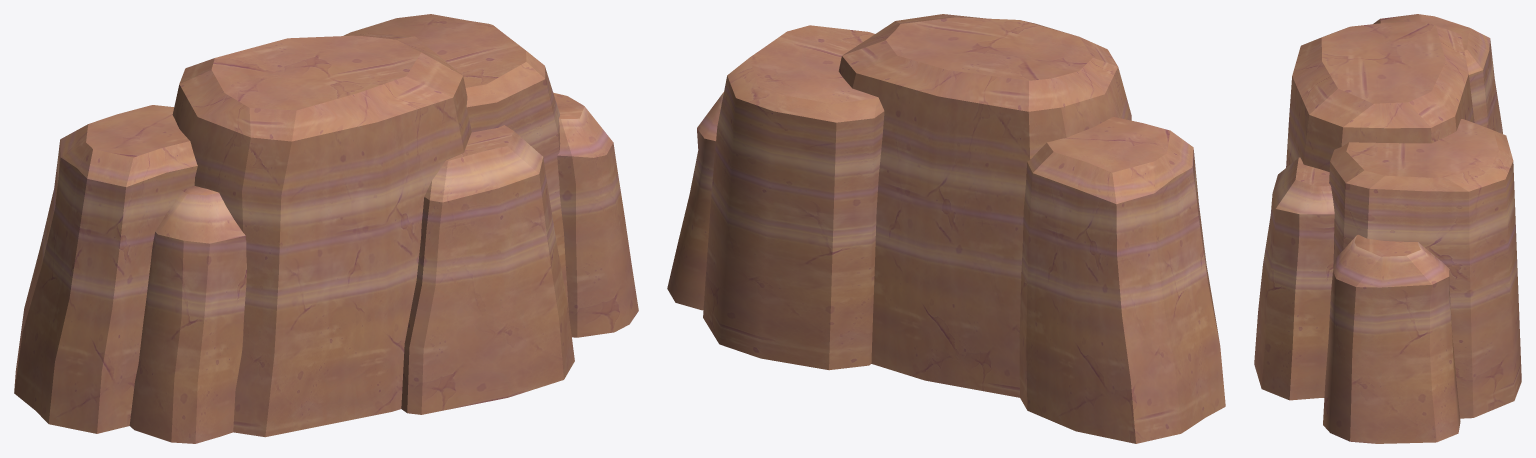
File: SM_Mesa03.fbx
3 renders of one model, left to right at view 1: azimuth 30°, elevation 25°; view 2: azimuth 150°, elevation 25°; view 3: azimuth 270°, elevation 25°, orthographic. The views are drawn at different scales.
Visible parts, largest first — view 1: SM_Mesa03; view 2: SM_Mesa03; view 3: SM_Mesa03.
Part boxes in pixels (left/top/right/bottom): SM_Mesa03: left=14, top=14, right=638, bottom=443; SM_Mesa03: left=667, top=14, right=1225, bottom=443; SM_Mesa03: left=1254, top=14, right=1521, bottom=443.
Bounding box in the file's own units: 2439 × 1269 × 1178.
